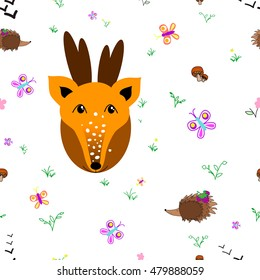animal: (46, 36, 141, 172), (157, 192, 216, 222)
bird: (188, 103, 214, 137), (97, 218, 126, 244), (9, 76, 38, 97), (30, 184, 50, 211), (156, 23, 178, 44)
